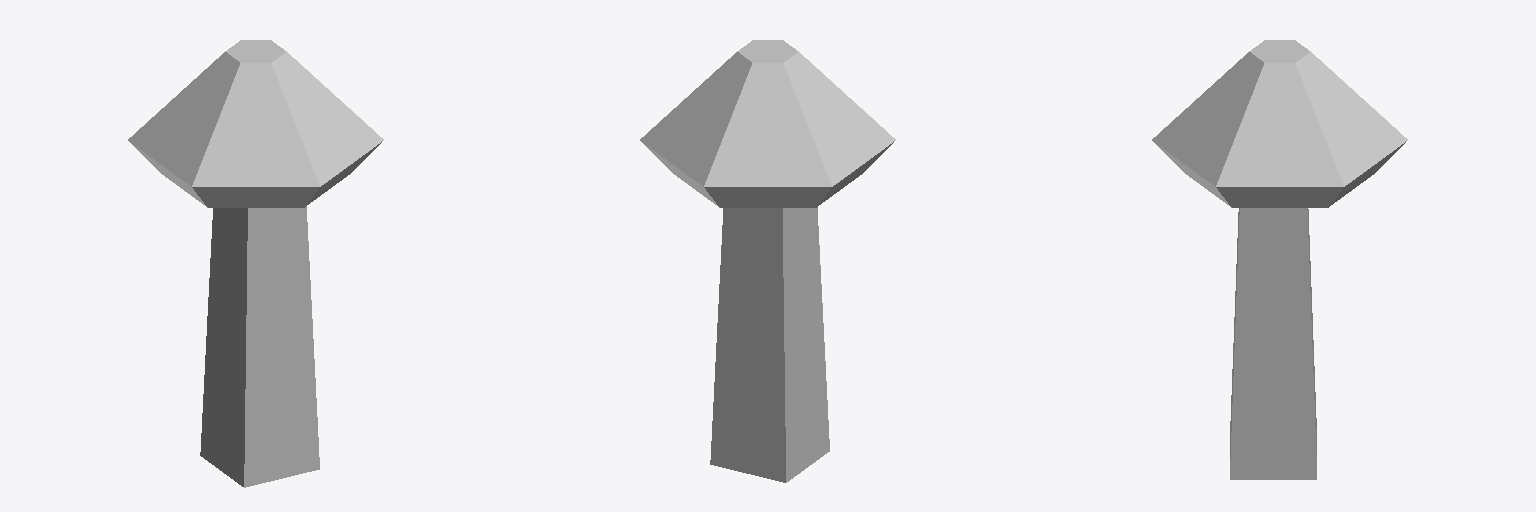
Rendered from mushroom_redTall.obj.
3 views of the same model, side by side, from view 1: azimuth 30°, elevation 25°; view 2: azimuth 150°, elevation 25°; view 3: azimuth 270°, elevation 25° (orthographic).
Visible parts, largest first — view 1: mushroom_redTall; view 2: mushroom_redTall; view 3: mushroom_redTall.
Part boxes in pixels (x1,y1,x2,y2): mushroom_redTall: (128,40,383,487); mushroom_redTall: (640,40,895,482); mushroom_redTall: (1152,40,1407,479).
Bounding box in the file's own units: 1.24 × 2.5 × 1.43.